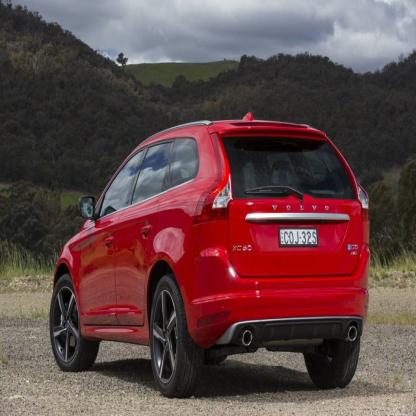Car: (50, 113, 371, 400)
